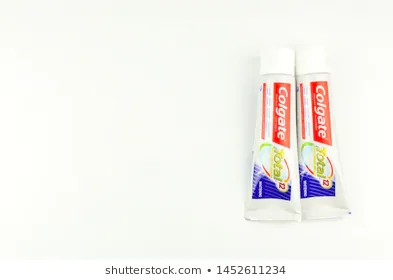colgate-total-150gm: (297, 49, 355, 224), (241, 49, 296, 224)
